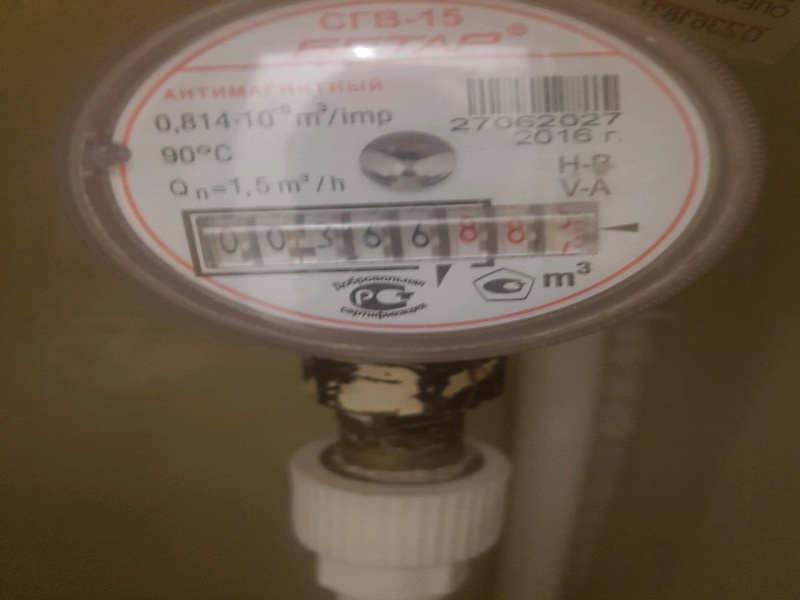meter: (193, 215, 605, 268)
